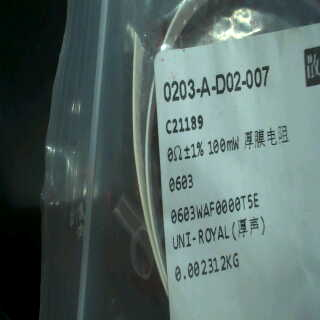0R: (165, 135, 241, 192)
